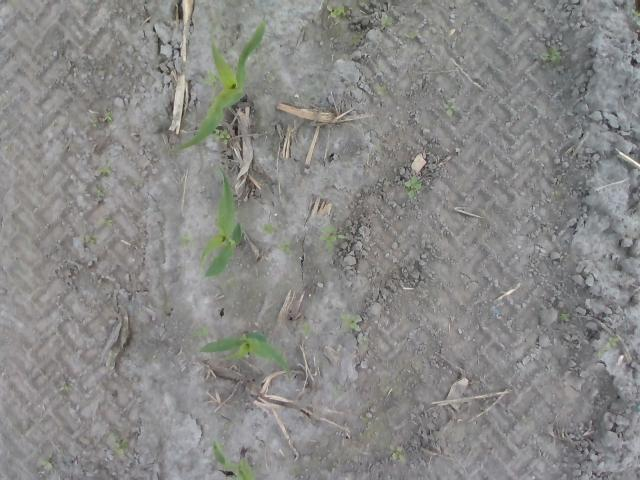Maize: (178, 20, 266, 150), (198, 165, 246, 276), (200, 331, 288, 370), (212, 440, 257, 480)
Weeds: (318, 224, 337, 250), (406, 175, 422, 201), (341, 313, 362, 330), (328, 4, 349, 19), (541, 49, 561, 64), (444, 98, 460, 116), (391, 444, 406, 463), (278, 240, 294, 256), (178, 234, 196, 248), (205, 68, 217, 87), (216, 130, 230, 144), (115, 440, 128, 455), (606, 335, 620, 347), (40, 456, 54, 468), (302, 321, 312, 336), (192, 327, 208, 336), (100, 164, 112, 176), (260, 223, 272, 235), (383, 16, 393, 28), (103, 218, 113, 227), (105, 110, 114, 120), (561, 313, 568, 321)
